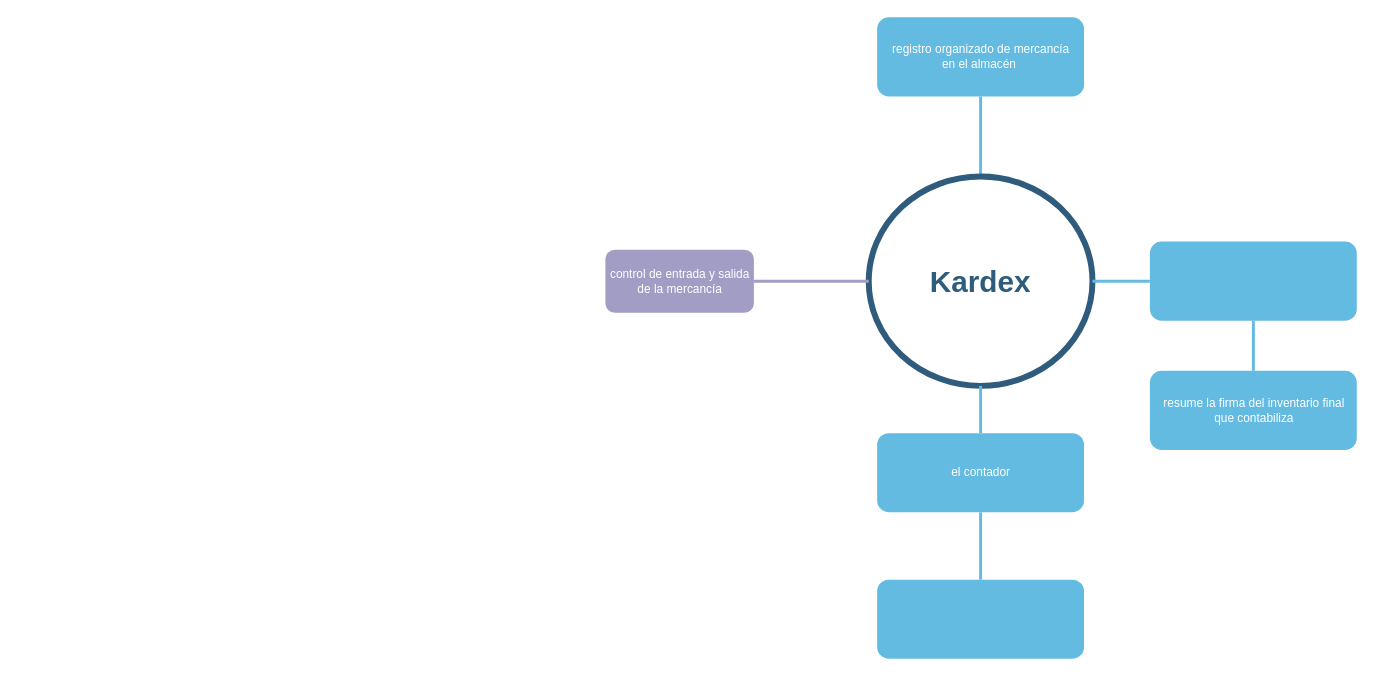
Image size: 1373x675. Some labels were removed from this diagram. Here are the shapes that lost their labels. From the top down, the box of each, then its label:
(1149, 241, 1356, 320): el bodeguero
(877, 579, 1084, 658): el quien recibe y descarga las mercancias
